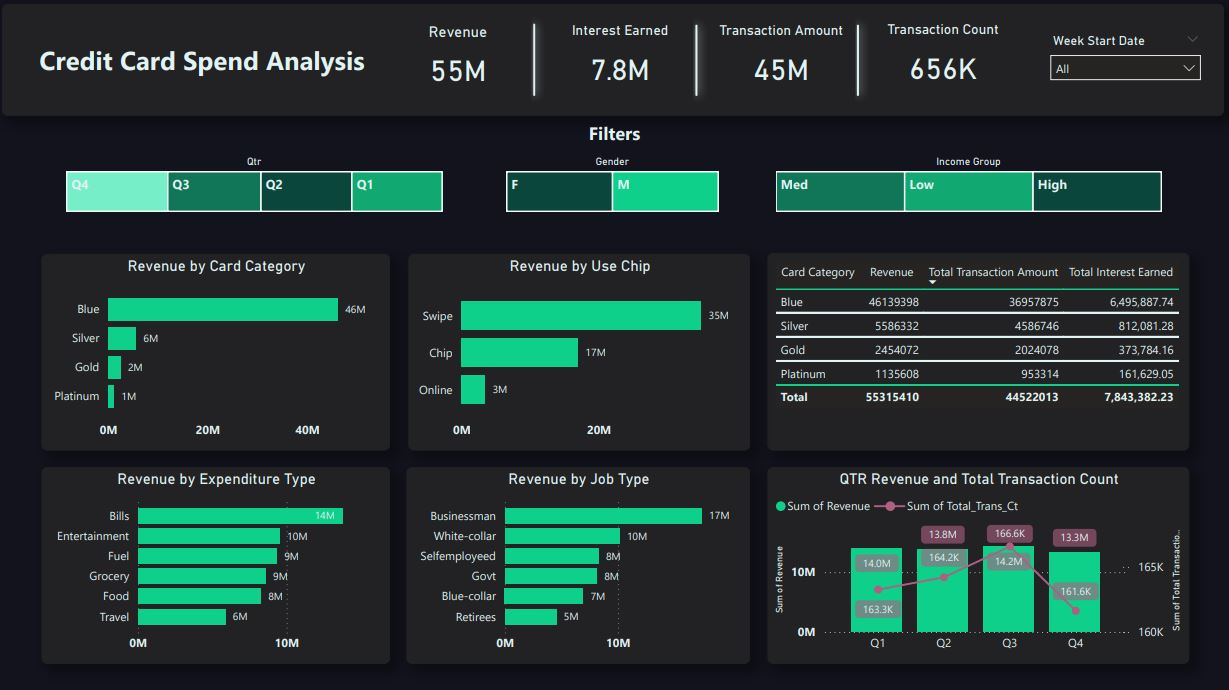

Layout of this report page (visuals, bound fields, positions):
{"tool":"powerbi","page":{"name":"Credit Card Tansaction","canvas":[1280,720],"ordinal":0},"visuals":[{"type":"shape","box":[7.4,7.4,1265.9,115.8],"z":0},{"type":"textbox","box":[41.5,40.8,356.6,48.2],"z":1000},{"type":"tableEx","fields":{"Values":["cc_detail.Card_Category","Sum(cc_detail.Revenue)","Sum(cc_detail.Total_Trans_Amt)","Sum(cc_detail.Interest_Earned)"]},"box":[800.3,265,436.3,204.7],"z":2000},{"type":"card","title":"Interest Earned","fields":{"Values":["Sum(cc_detail.Interest_Earned)"]},"box":[568.1,26.1,158.6,78.3],"z":3000},{"type":"textbox","box":[609.6,123.1,74.3,38.1],"z":4000},{"type":"slicer","fields":{"Values":["cc_detail.Week_Start_Date"]},"box":[1082.6,33.5,176.6,63.6],"z":5000},{"type":"treemap","title":"Qtr","fields":{"Group":["cc_detail.Qtr"],"Values":["Avg(cc_detail.Client_Num)"]},"box":[68.9,163.9,399.5,63.6],"z":6000},{"type":"card","title":"Revenue","fields":{"Values":["Sum(cc_detail.Revenue)"]},"box":[400.1,26.1,158.6,79],"z":8000},{"type":"card","title":"Transaction Amount","fields":{"Values":["Sum(cc_detail.Total_Trans_Amt)"]},"box":[735.3,26.1,158.6,79],"z":9000},{"type":"card","title":"Transaction Count","fields":{"Values":["Sum(cc_detail.Total_Trans_Ct)"]},"box":[902.6,25.4,158.6,79],"z":10000},{"type":"shape","box":[547.3,18.1,22.7,93.7],"z":11000},{"type":"shape","box":[715.3,18.7,22.7,93.7],"z":12000},{"type":"shape","box":[882.6,18.7,22.7,93.7],"z":13000},{"type":"treemap","title":"Gender","fields":{"Values":["Avg(cc_detail.Client_Num)"],"Group":["cust_detail.Gender"]},"box":[525.2,163.9,228.8,63.6],"z":14000},{"type":"treemap","title":"Income Group","fields":{"Values":["Avg(cc_detail.Client_Num)"],"Group":["cust_detail.IncomeGroup"]},"box":[804.3,163.9,408.8,63.6],"z":15000},{"type":"barChart","title":"Revenue by Expenditure Type","fields":{"Category":["cc_detail.Exp_Type"],"Y":["Sum(cc_detail.Revenue)"]},"box":[47.5,487.1,361.3,204.1],"z":16000},{"type":"barChart","title":"Revenue by Job Type","fields":{"Category":["cust_detail.Customer_Job"],"Y":["Sum(cc_detail.Revenue)"]},"box":[426.2,487.1,356,204.1],"z":18000},{"type":"barChart","title":"Revenue by Card Category","fields":{"Category":["cc_detail.Card_Category"],"Y":["Sum(cc_detail.Revenue)"]},"box":[47.5,265.6,361.3,204.1],"z":19000},{"type":"lineStackedColumnComboChart","title":"QTR Revenue and Total Transaction Count","fields":{"Category":["cc_detail.Qtr"],"Y2":["Sum(cc_detail.Total_Trans_Ct)"],"Y":["Sum(cc_detail.Revenue)"]},"box":[800.3,487.1,436.3,204.1],"z":20000},{"type":"barChart","title":"Revenue by Use Chip","fields":{"Category":["cc_detail.Use_Chip"],"Y":["Sum(cc_detail.Revenue)"]},"box":[428.2,265.6,354,204.1],"z":21000}]}

Visuals, with their boxes in screenshot pixels (x1, y1, x2, y2), scaled from the page's 1280x720 canvas onto the 1229x690 screenshot:
shape: [7,7,1223,118]
textbox: [40,39,382,85]
tableEx - cc_detail.Card_Category x Sum(cc_detail.Revenue): [768,254,1187,450]
"Interest Earned" card: [545,25,698,100]
textbox: [585,118,657,154]
slicer - cc_detail.Week_Start_Date: [1039,32,1209,93]
"Qtr" treemap: [66,157,450,218]
"Revenue" card: [384,25,536,101]
"Transaction Amount" card: [706,25,858,101]
"Transaction Count" card: [867,24,1019,100]
shape: [525,17,547,107]
shape: [687,18,709,108]
shape: [847,18,869,108]
"Gender" treemap: [504,157,724,218]
"Income Group" treemap: [772,157,1165,218]
"Revenue by Expenditure Type" barChart: [46,467,393,662]
"Revenue by Job Type" barChart: [409,467,751,662]
"Revenue by Card Category" barChart: [46,255,393,450]
"QTR Revenue and Total Transaction Count" lineStackedColumnComboChart: [768,467,1187,662]
"Revenue by Use Chip" barChart: [411,255,751,450]
